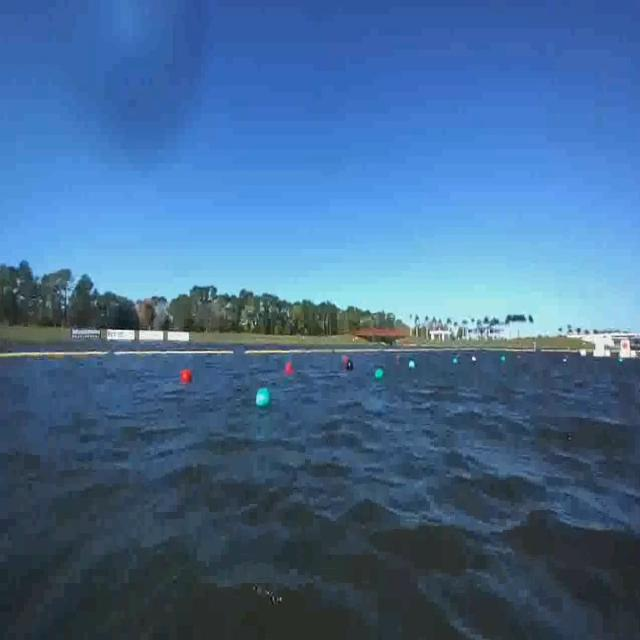green-buoy: (258, 385, 274, 406), (376, 367, 385, 380)
red-buoy: (180, 368, 192, 383)
red-column-buoy: (345, 355, 350, 368)
